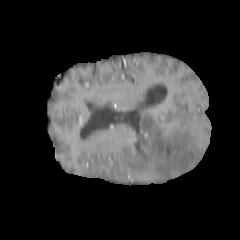glioma: (120, 104, 201, 179)
